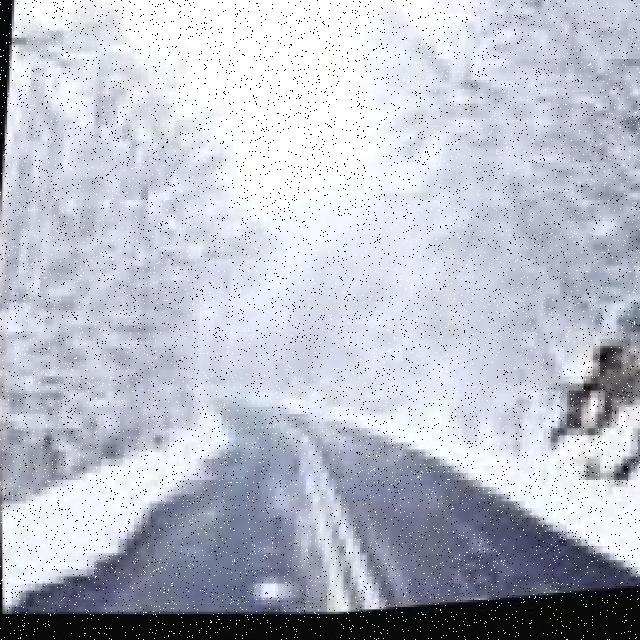clear-road: (8, 393, 639, 615)
